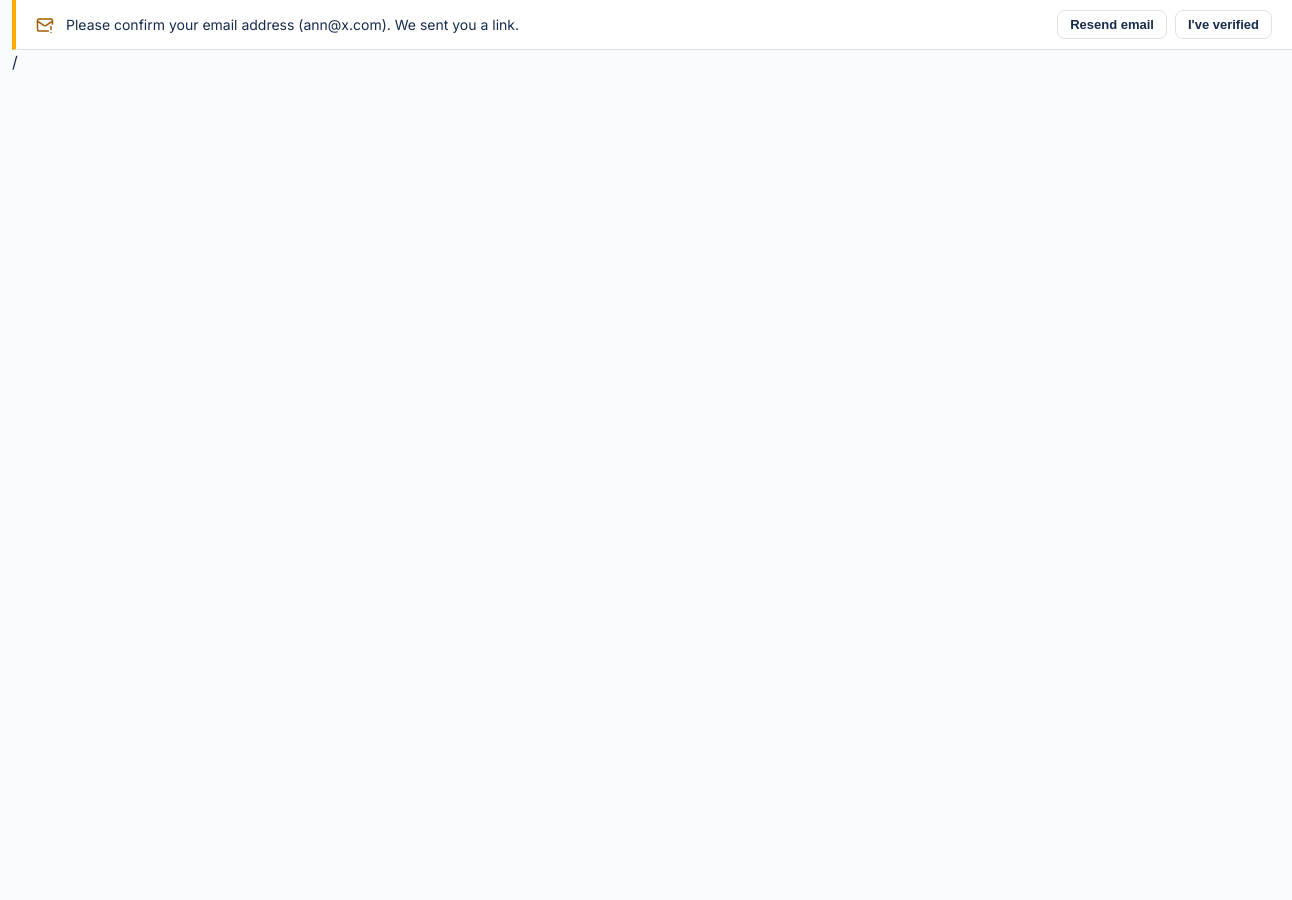
Test case: VerifyEmailBanner › resend: success toast
Click the button "Resend email": [1112, 24] box 1057,10 -> 1167,39
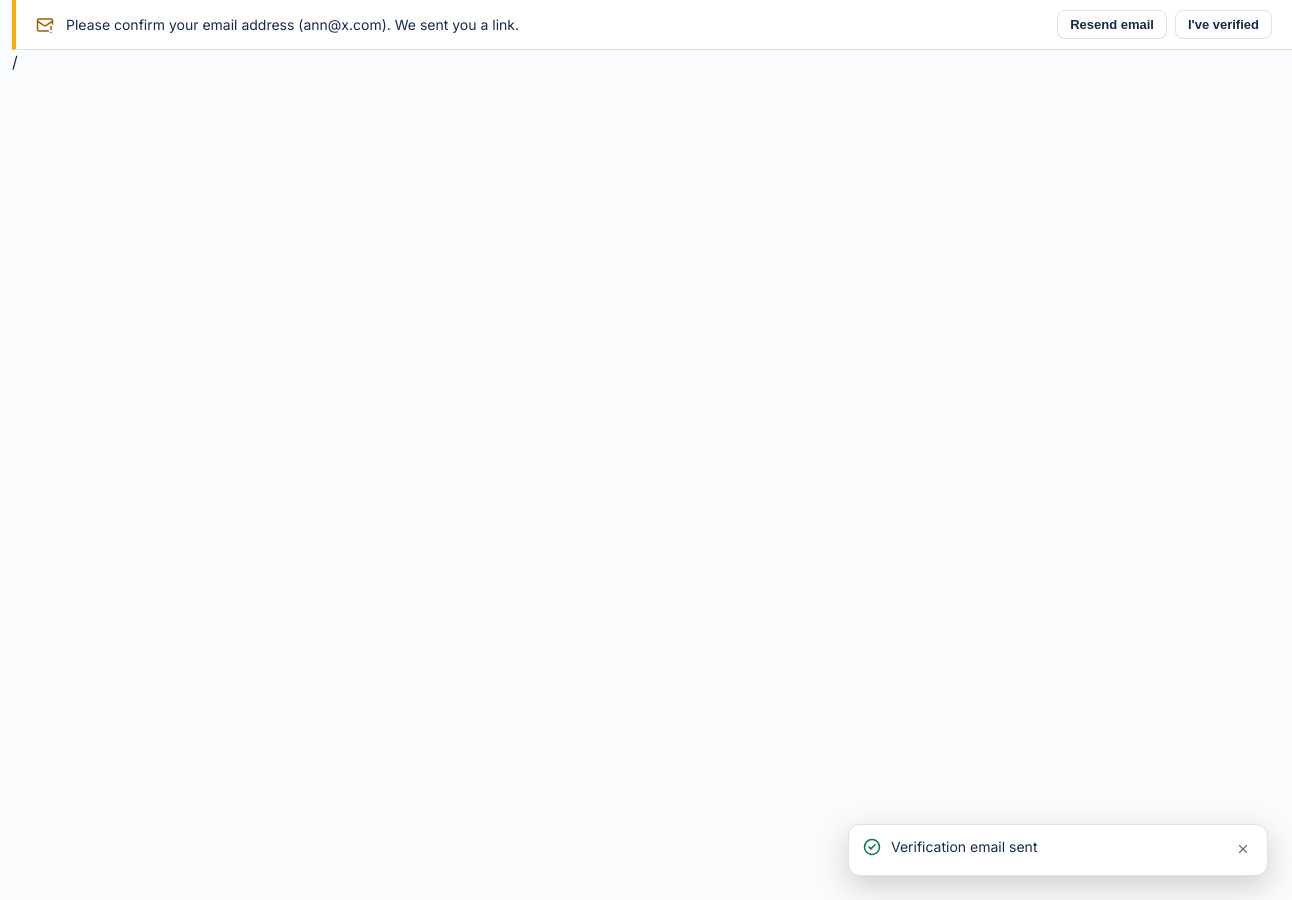
Expected: the text "Verification email sent" is shown, 891,838 -> 1038,855
